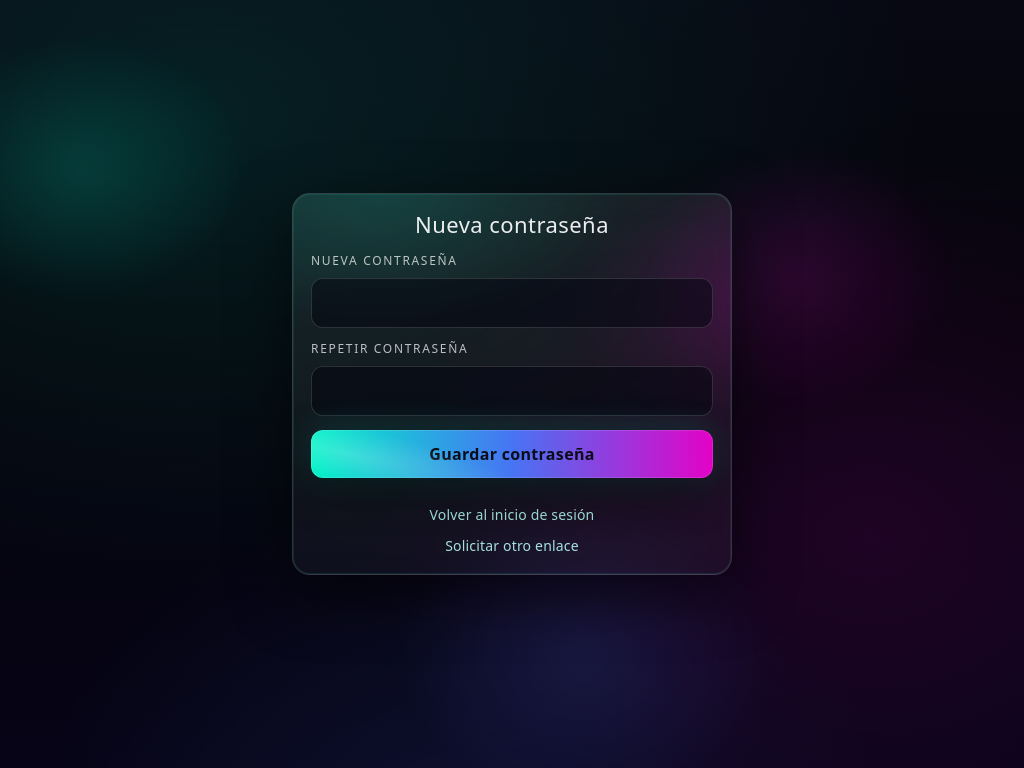
Test: ResetPasswordPage › shows error for expired token
Type "newpassword1" into the password field with id "reset-password" at point(512, 303), box [311, 278, 713, 328]
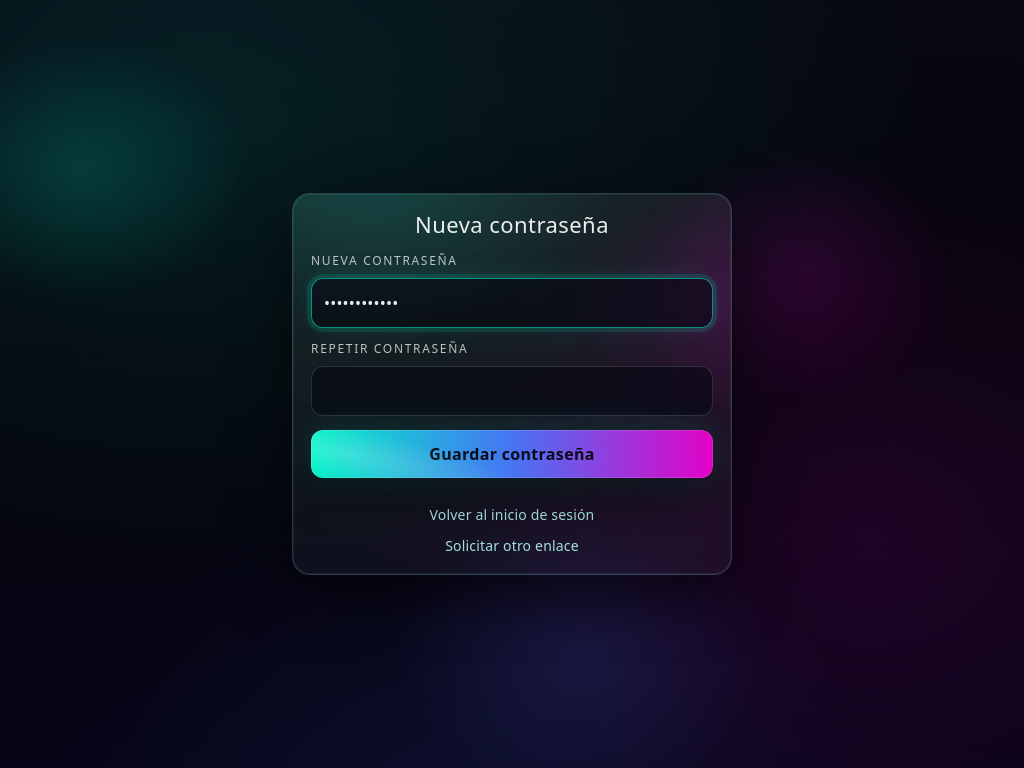
Type "newpassword1" into the password field with id "reset-password2" at point(512, 391), box [311, 366, 713, 416]
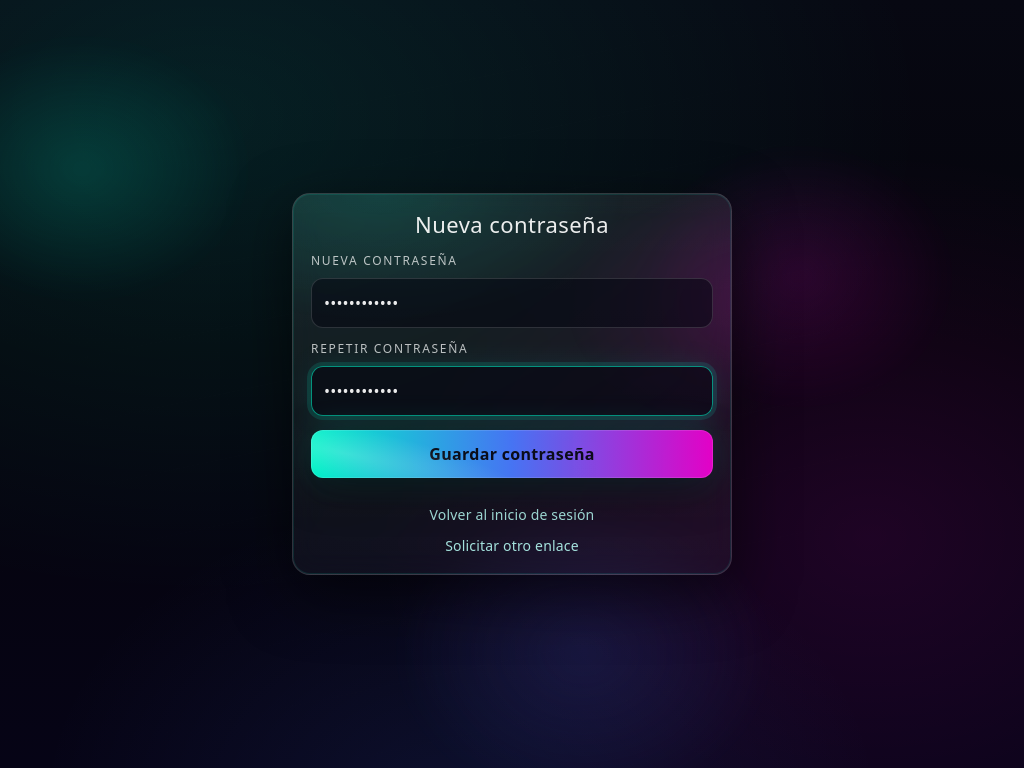
Click the button "Guardar contraseña" at point(512, 454), box [311, 430, 713, 478]
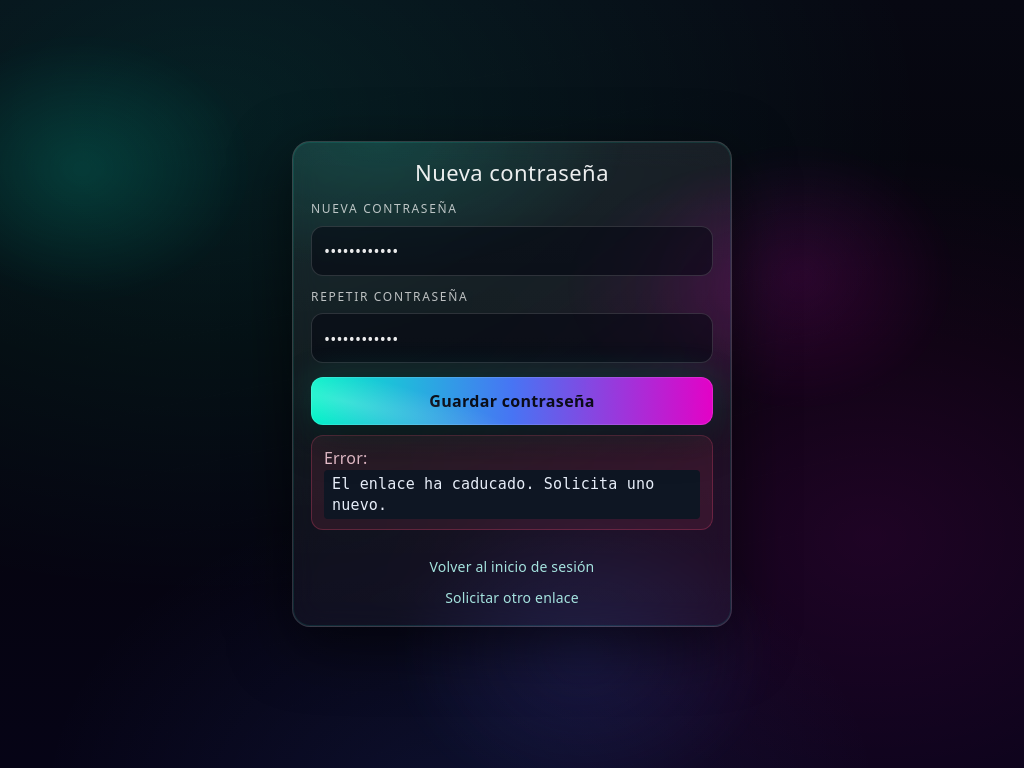
Expected: the message shows "El enlace ha caducado", [332, 475, 654, 514]
